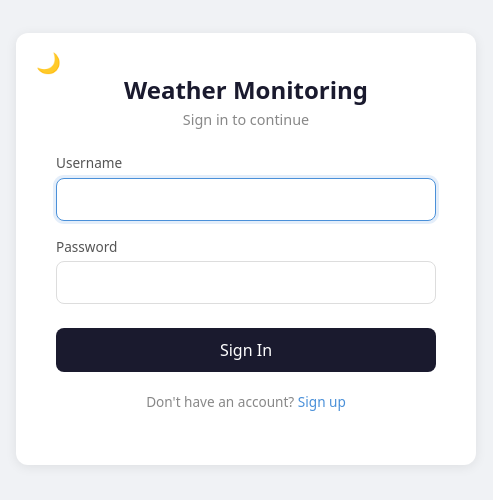
Test: LoginPage › shows validation error when fields are empty
Click the button "Sign In".
click(246, 350)  # box x1=56 y1=328 x2=436 y2=372
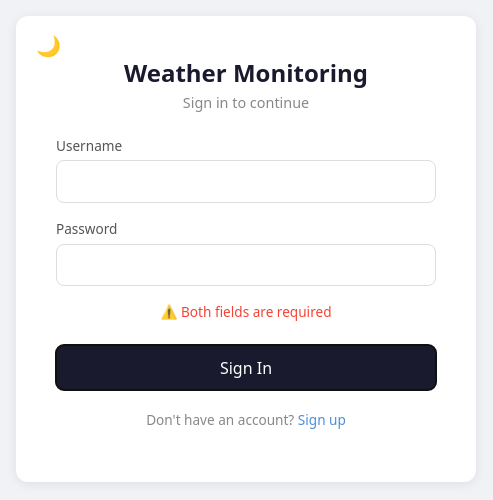
Now the text "⚠️ Both fields are required" is shown, box x1=160 y1=302 x2=332 y2=321
